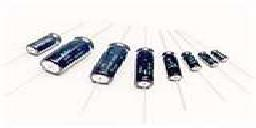Electrolytic-Capacitor: (132, 21, 157, 126), (89, 38, 132, 89), (160, 48, 184, 88), (181, 47, 198, 73), (208, 45, 227, 66)
